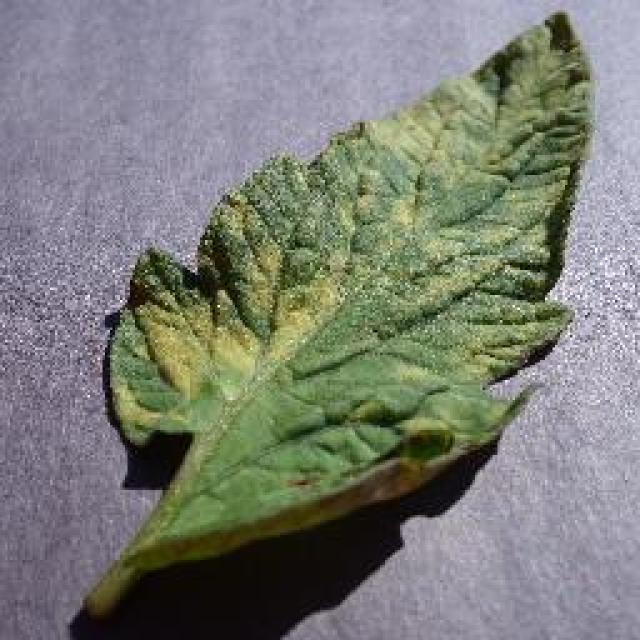Tom_Leaf_Mold: (365, 85, 566, 329), (136, 201, 339, 411)
